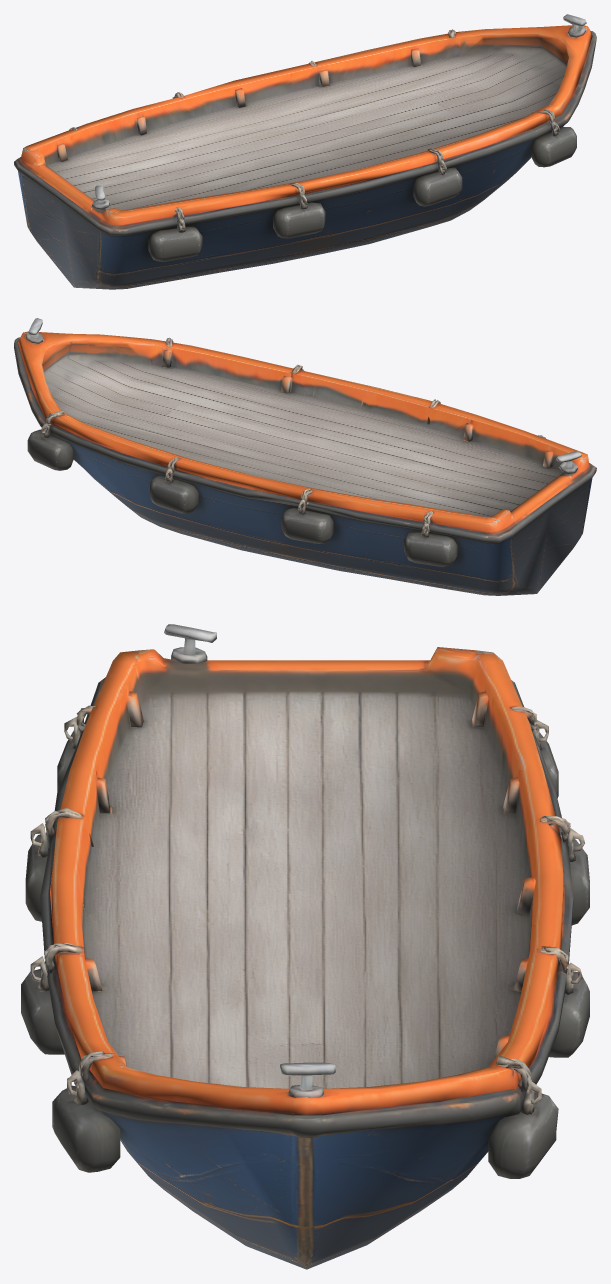
The model's file is 04-work-skiff.glb.
3 renders of one model, top to bottom at view 1: azimuth 30°, elevation 25°; view 2: azimuth 150°, elevation 25°; view 3: azimuth 270°, elevation 25°, orthographic. The views are drawn at different scales.
Visible parts, largest first — view 1: tripo_node_38bd4731-4fe3-4464-9a25-b8f73525ee3d; view 2: tripo_node_38bd4731-4fe3-4464-9a25-b8f73525ee3d; view 3: tripo_node_38bd4731-4fe3-4464-9a25-b8f73525ee3d.
Boxes of the visible parts, left/top/right/bottom form: tripo_node_38bd4731-4fe3-4464-9a25-b8f73525ee3d: left=14, top=14, right=596, bottom=289; tripo_node_38bd4731-4fe3-4464-9a25-b8f73525ee3d: left=14, top=318, right=596, bottom=595; tripo_node_38bd4731-4fe3-4464-9a25-b8f73525ee3d: left=21, top=624, right=589, bottom=1269.
Size of the model in its own units: 2.21 by 0.6 by 1.01.
1 material, 1 textured.
